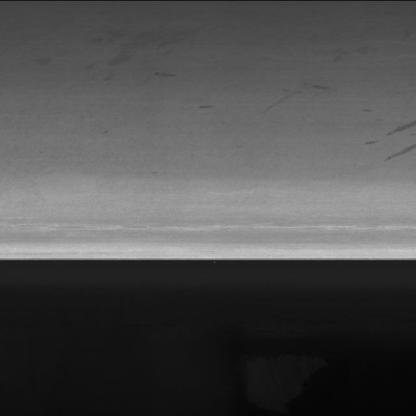water_spot: (343, 114, 414, 167)
